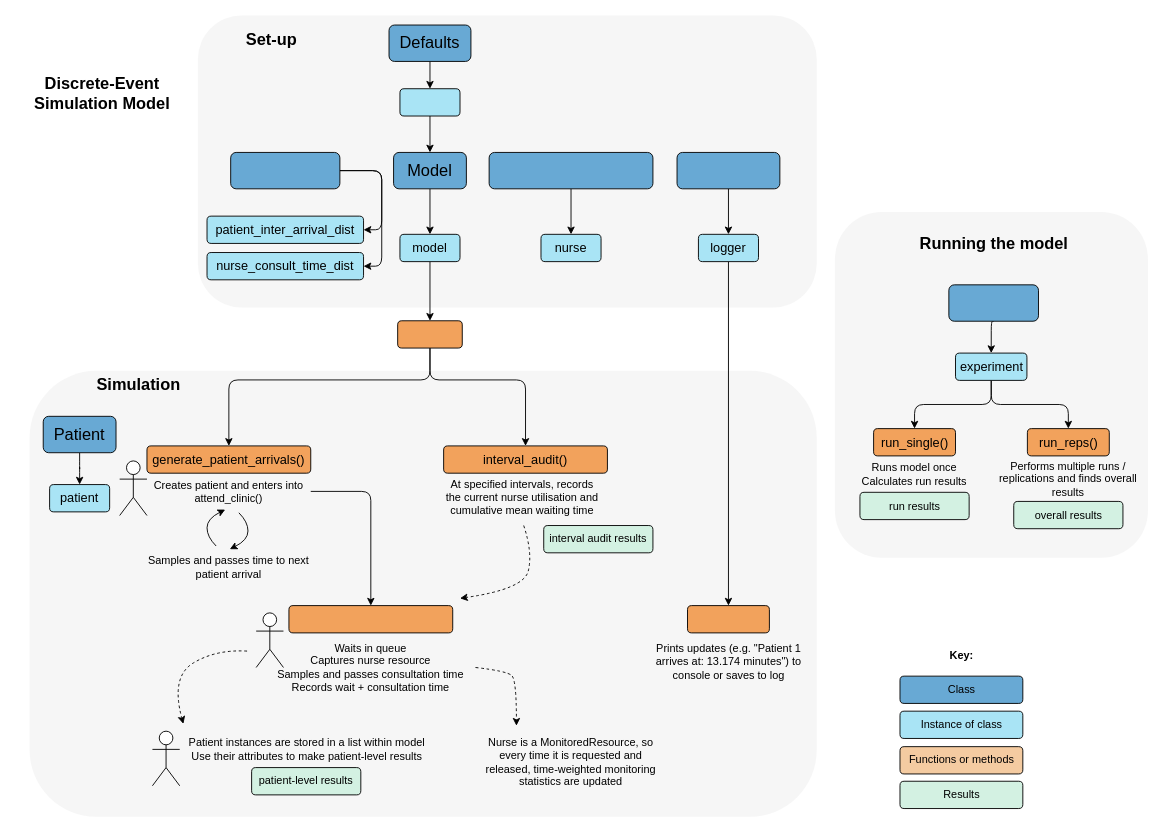
The diagram is 1163 pixels wide and 834 high, and some of its shapes have lost their labels. Each missing label, with the centre of its shape:
attend_clinic(): point (370, 619)
Exponential: point (285, 170)
log(): point (728, 619)
MonitoredResource: point (570, 170)
param: point (429, 102)
run(): point (429, 334)
Runner: point (993, 302)
SimLogger: point (728, 170)
